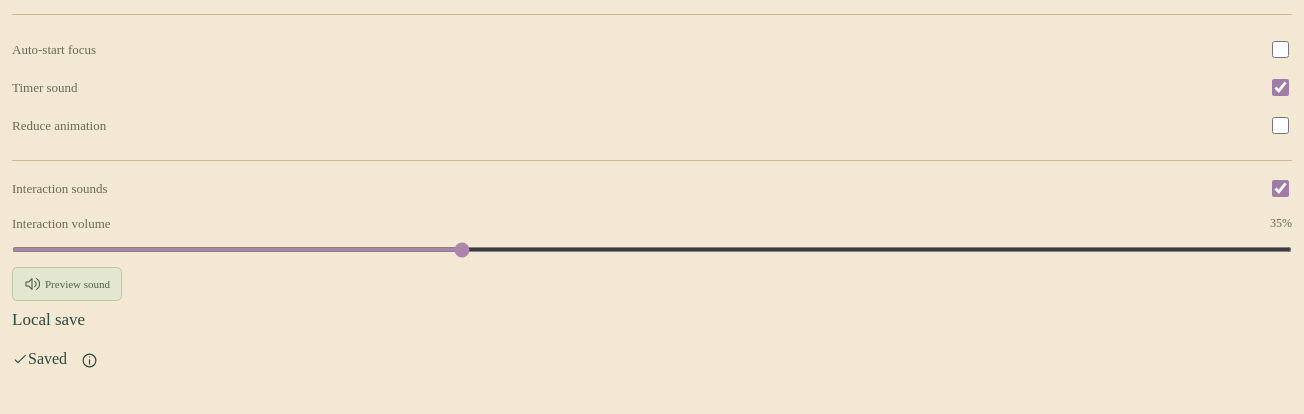
a blocked preview is recoverable without changing sound preferences
Click the button "Preview sound". click: x=67, y=284
box: [12,267,122,301]
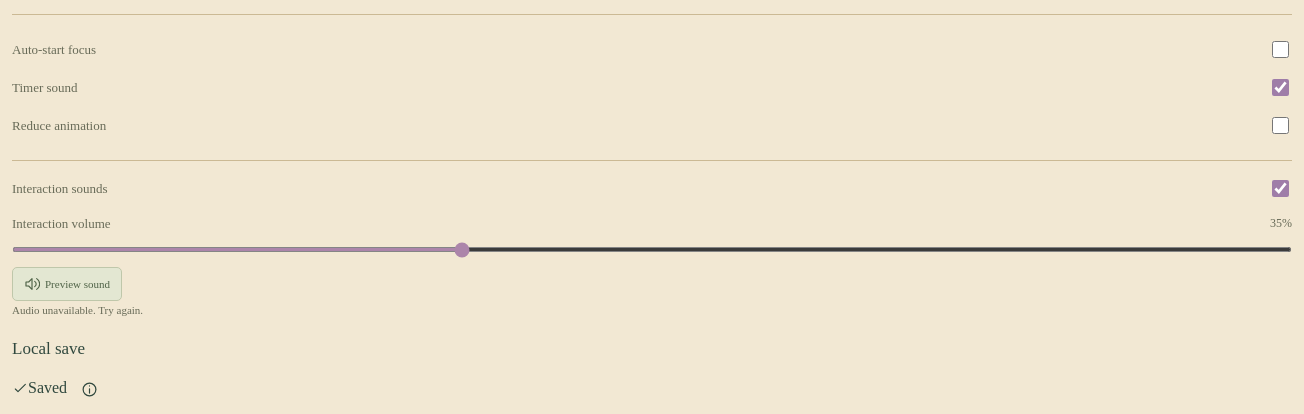
Expected: the text "Audio unavailable. Try again." is shown, [12,304,143,316]
Click the button "Preview sound". click: x=67, y=284
box: [12,267,122,301]
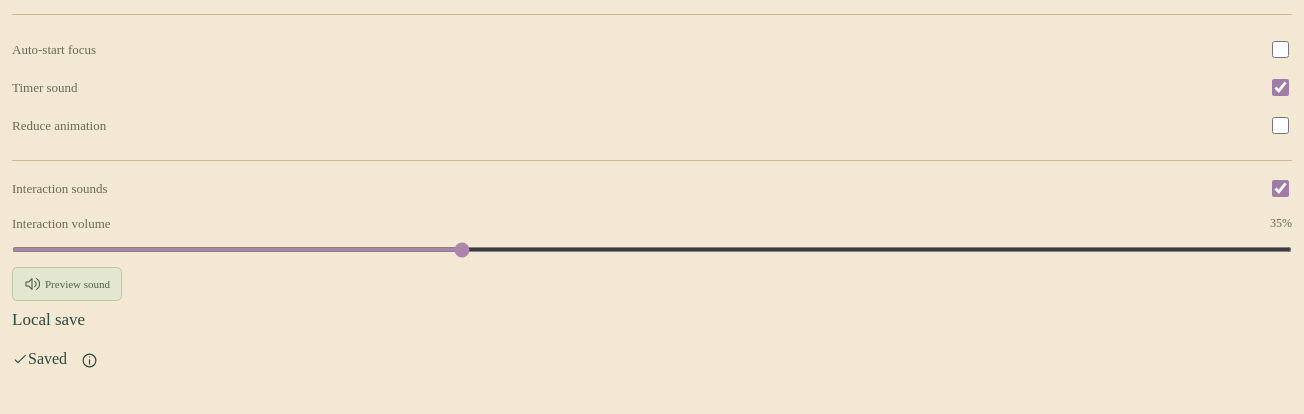
Expected: the text "Audio unavailable. Try again." is gone
